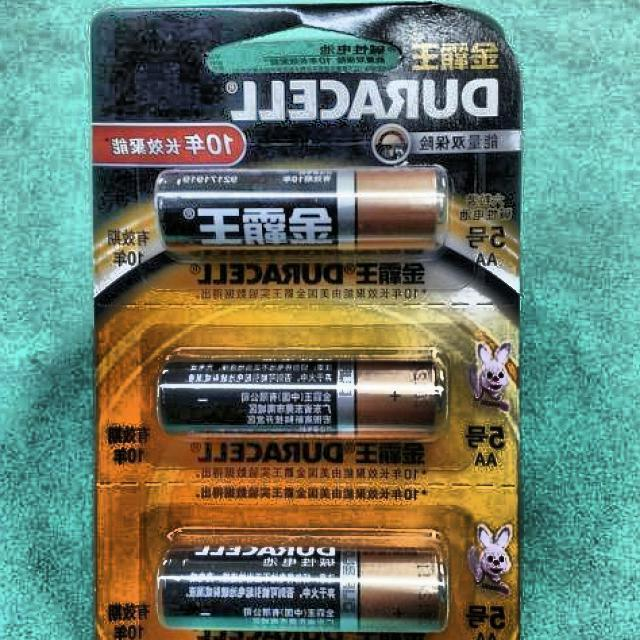battery: (154, 166, 448, 254), (158, 546, 448, 632), (159, 360, 445, 436)
